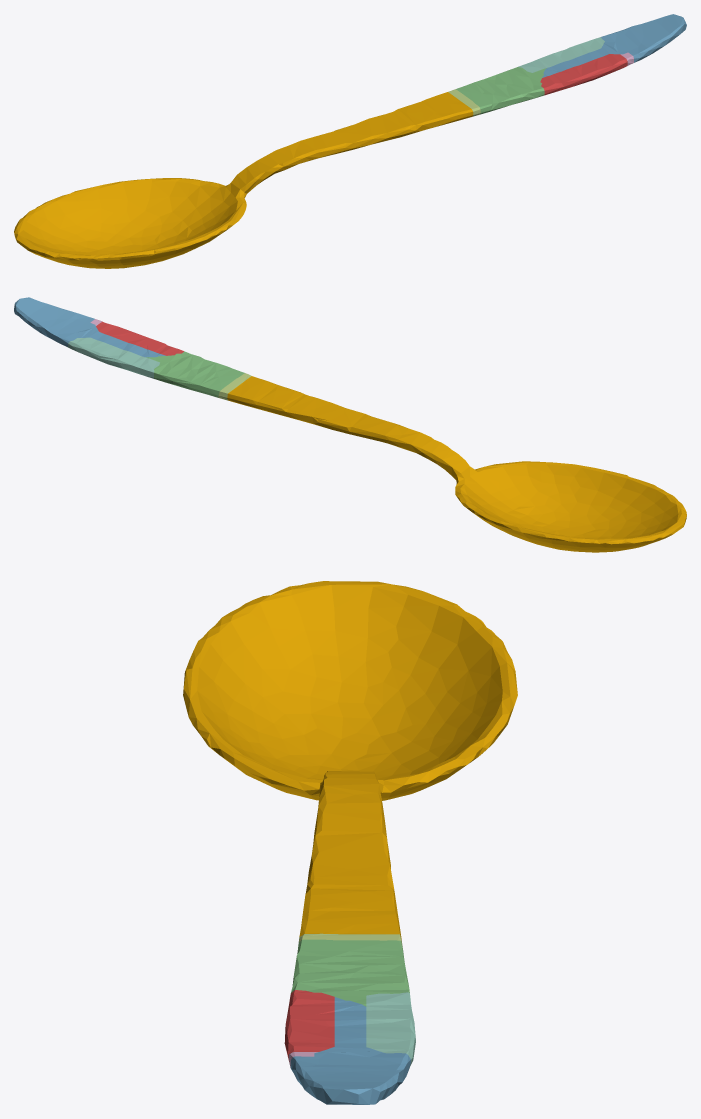
File: mode_19_7pcs.glb
3 renders of one model, top to bottom at view 1: azimuth 30°, elevation 25°; view 2: azimuth 150°, elevation 25°; view 3: azimuth 270°, elevation 25°, orthographic. The views are drawn at different scales.
Parts seen in each view (by area): view 1: piece_0.obj, piece_2.obj, piece_3.obj, piece_1.obj, piece_4.obj; view 2: piece_0.obj, piece_2.obj, piece_3.obj, piece_4.obj, piece_1.obj; view 3: piece_0.obj, piece_2.obj, piece_3.obj, piece_1.obj, piece_4.obj.
Boxes of the visible parts, x1=… form: piece_0.obj: x1=14, y1=92, x2=473, y2=268; piece_2.obj: x1=542, y1=14, x2=686, y2=77; piece_3.obj: x1=456, y1=67, x2=546, y2=114; piece_1.obj: x1=540, y1=54, x2=627, y2=95; piece_4.obj: x1=518, y1=37, x2=604, y2=72; piece_0.obj: x1=227, y1=376, x2=686, y2=552; piece_2.obj: x1=14, y1=297, x2=165, y2=357; piece_3.obj: x1=146, y1=351, x2=244, y2=397; piece_4.obj: x1=68, y1=337, x2=159, y2=378; piece_1.obj: x1=96, y1=321, x2=183, y2=355; piece_0.obj: x1=183, y1=581, x2=517, y2=939; piece_2.obj: x1=290, y1=997, x2=410, y2=1104; piece_3.obj: x1=291, y1=939, x2=409, y2=1006; piece_1.obj: x1=284, y1=990, x2=334, y2=1061; piece_4.obj: x1=366, y1=992, x2=415, y2=1067.
Size of the model in its own units: 1 by 0.152 by 0.2193.
